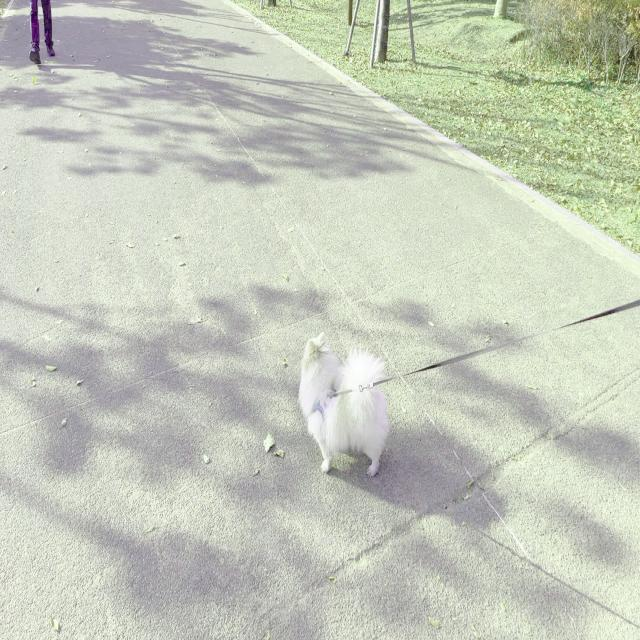Dog: (297, 331, 390, 478)
